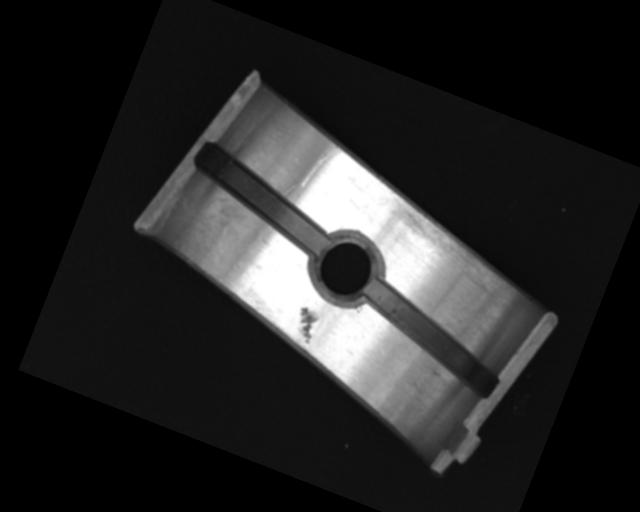bruise: (289, 304, 323, 346)
gap: (345, 275, 515, 400), (178, 140, 345, 256)
hole: (298, 222, 392, 314)
nick: (301, 138, 343, 195)
scratch: (323, 163, 531, 306)
